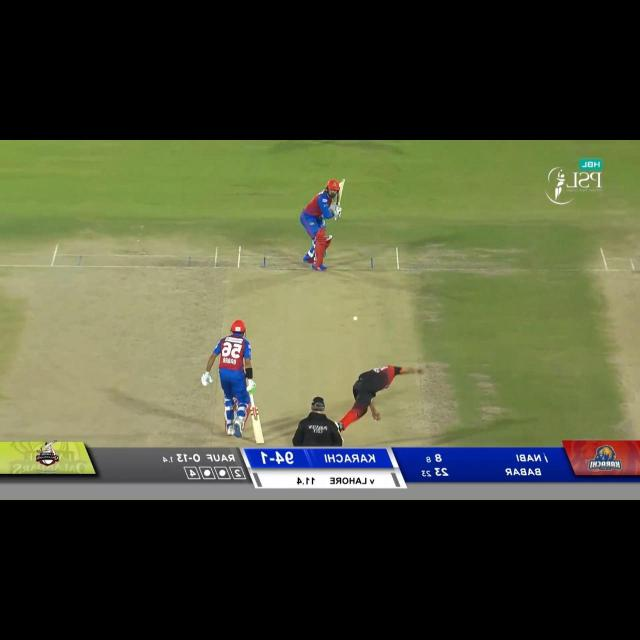bat: (249, 407, 266, 443), (335, 179, 346, 206)
toe: (255, 438, 266, 446), (338, 180, 345, 187)
